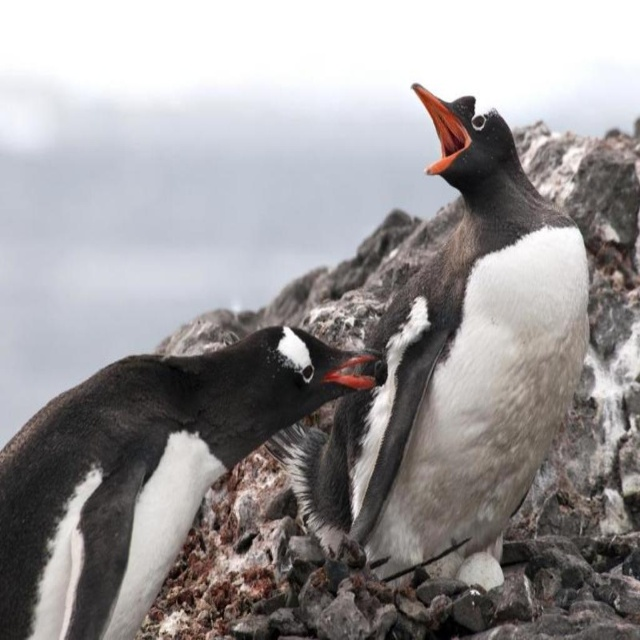Penguin: (263, 78, 594, 593), (0, 318, 375, 639)
